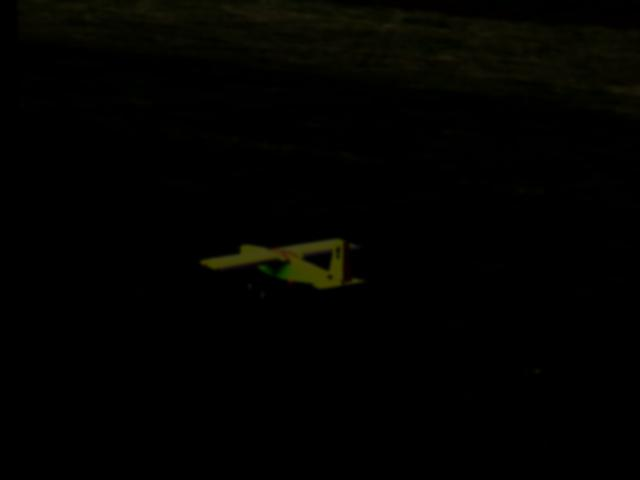plane: (190, 229, 372, 317)
